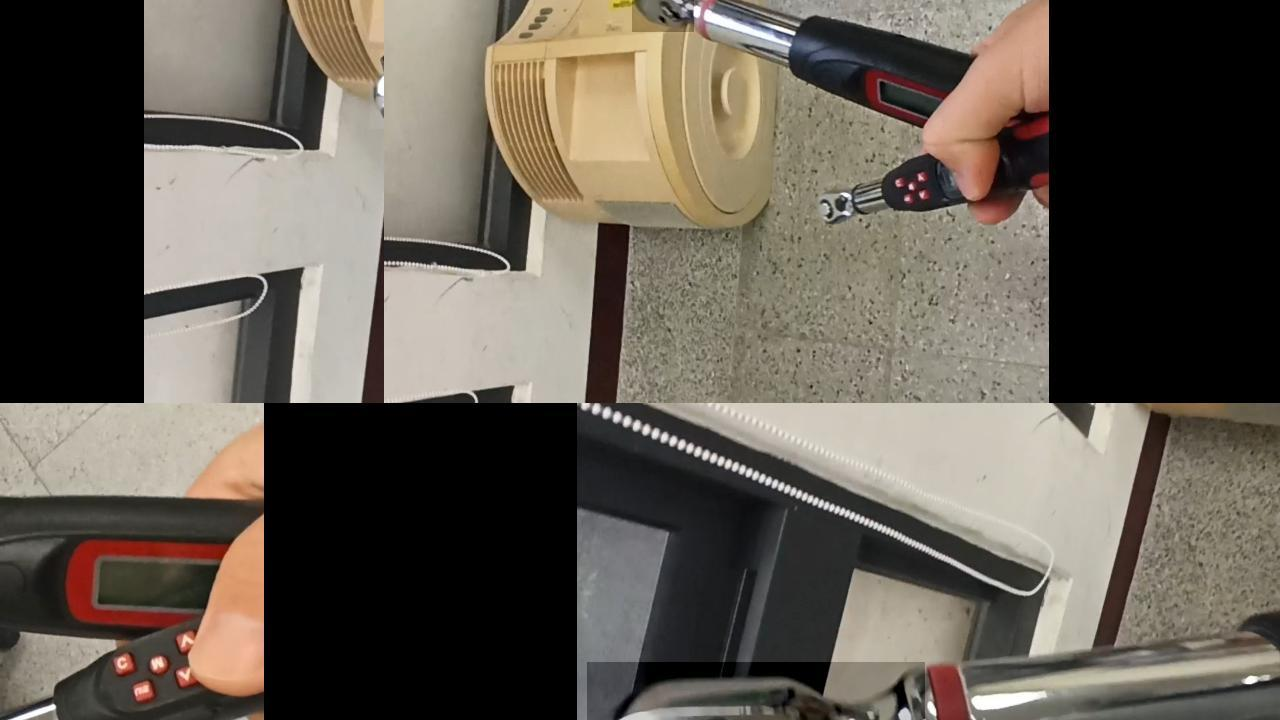Tool: (586, 662, 924, 720), (813, 183, 859, 231), (631, 0, 693, 32)
